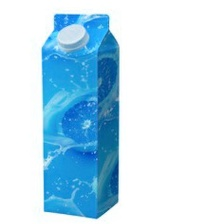carton: (39, 11, 124, 219)
